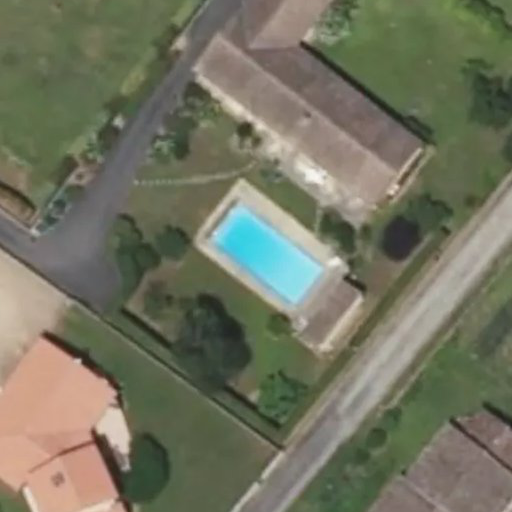pool: (199, 230, 312, 253)
